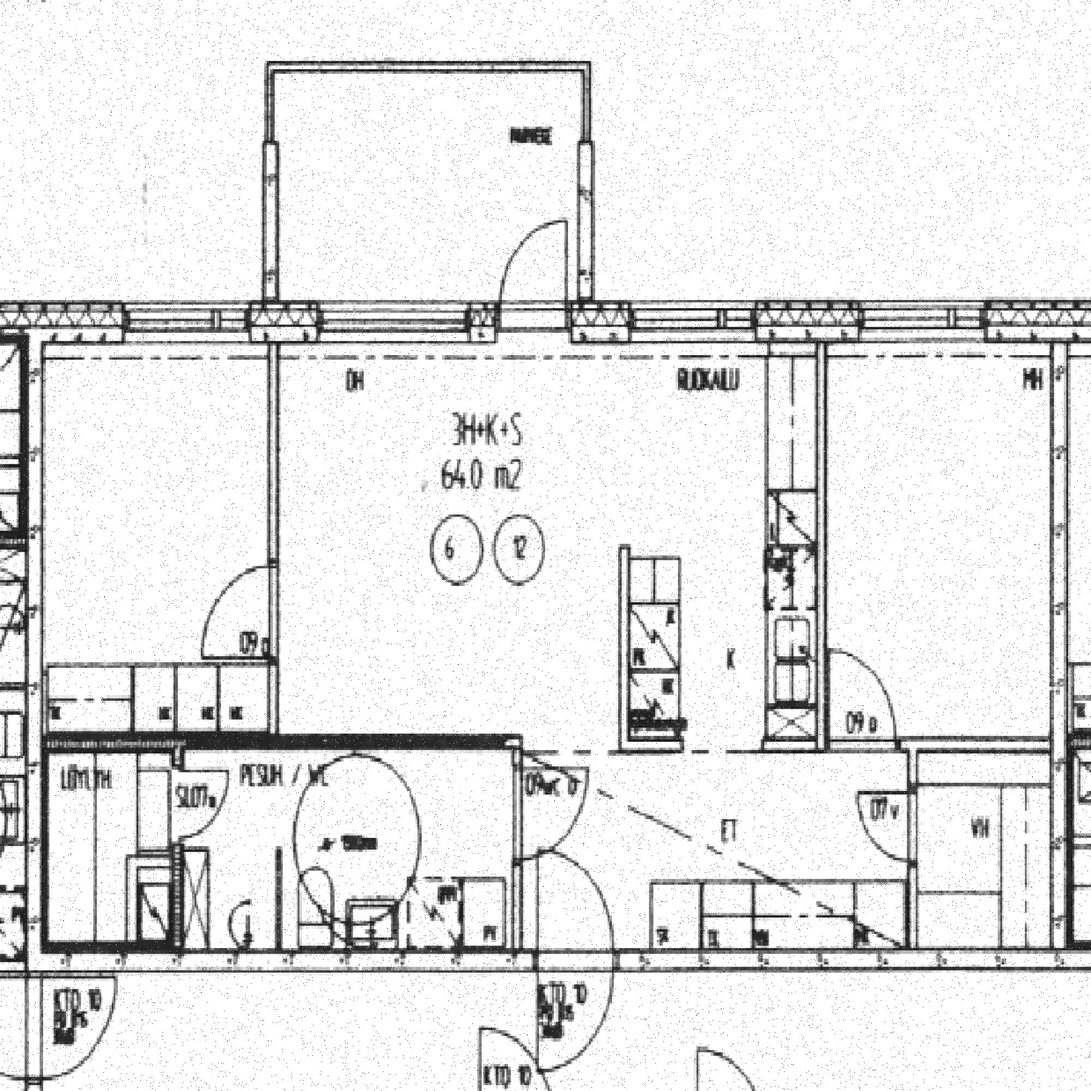wall: (28, 301, 1069, 345), (183, 953, 1069, 976), (1052, 301, 1069, 975), (28, 301, 44, 751), (183, 737, 523, 751), (28, 946, 183, 975), (28, 751, 47, 975), (269, 301, 278, 751), (819, 301, 827, 742), (763, 742, 1069, 751), (512, 737, 523, 975), (172, 751, 183, 975), (264, 142, 278, 301), (581, 142, 595, 301), (44, 737, 183, 751), (620, 546, 628, 751), (910, 742, 917, 975), (621, 742, 684, 751)
